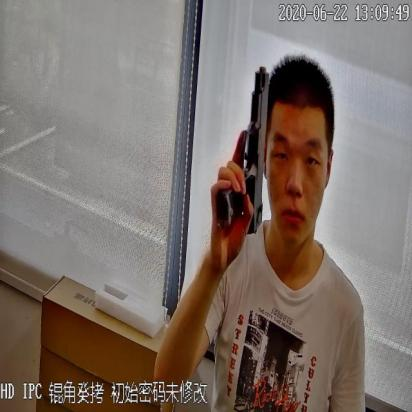Gun: (215, 60, 268, 237)
